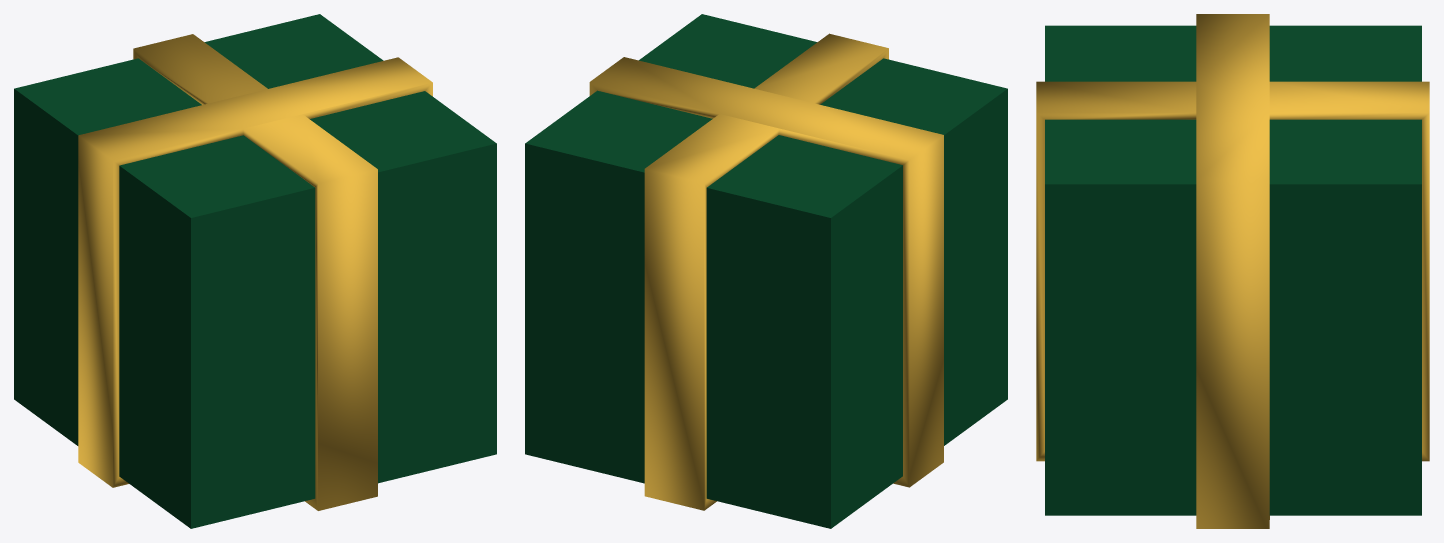
The model's file is giftSmallGreen.glb.
3 renders of one model, left to right at view 1: azimuth 30°, elevation 25°; view 2: azimuth 150°, elevation 25°; view 3: azimuth 270°, elevation 25°, orthographic. The views are drawn at different scales.
Visible parts, largest first — view 1: GiftSmallGreen; view 2: GiftSmallGreen; view 3: GiftSmallGreen.
Boxes of the visible parts, x1,y1,x2,y2 form: GiftSmallGreen: (14,14,496,528); GiftSmallGreen: (525,14,1007,528); GiftSmallGreen: (1036,14,1429,528).
Size of what is drawn, in the model's own units: 0.6371 by 0.6227 by 0.6371.
Materials: 2 (2 with a texture image).
